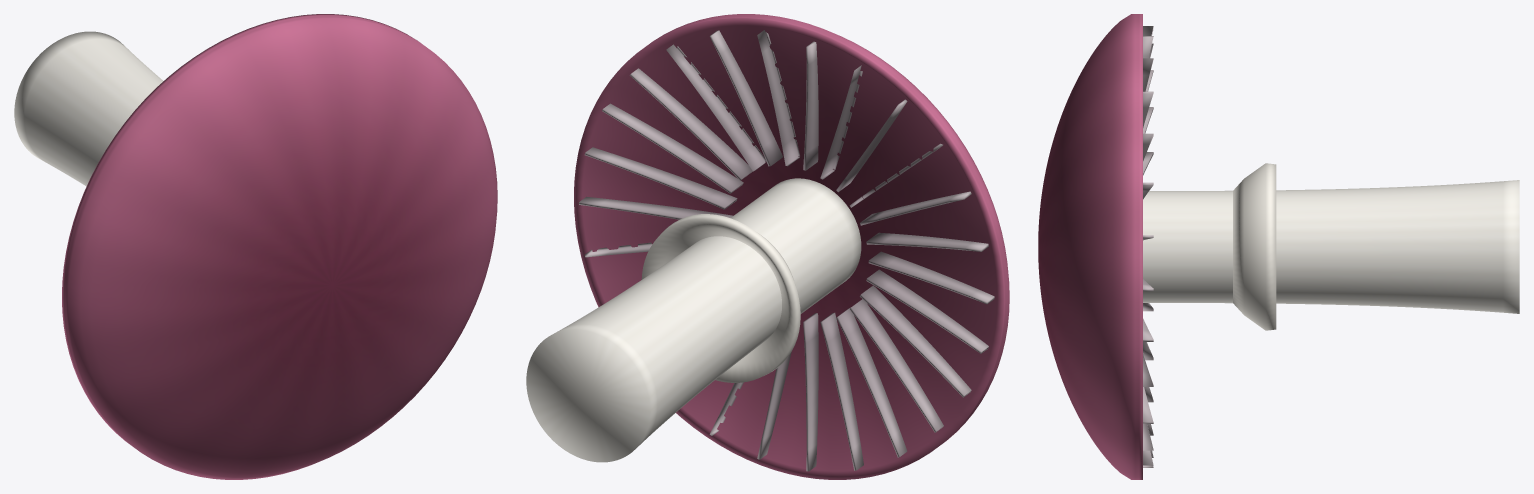
File: stropharia-rugosoannulata.glb
3 views of the same model, side by side, from view 1: azimuth 30°, elevation 25°; view 2: azimuth 150°, elevation 25°; view 3: azimuth 270°, elevation 25° (orthographic). The views are drawn at different scales.
Visible parts, largest first — view 1: pileus_cap, stipe_stem; view 2: pileus_cap, stipe_stem, lamellae_gills, annulus_ring; view 3: stipe_stem, pileus_cap, annulus_ring, lamellae_gills.
Part boxes in pixels (x1,y1,x2,y2): pileus_cap: (62, 14, 497, 479); stipe_stem: (14, 31, 163, 186); pileus_cap: (574, 14, 1009, 479); stipe_stem: (526, 178, 861, 462); lamellae_gills: (579, 30, 994, 471); annulus_ring: (641, 214, 800, 382); stipe_stem: (1143, 180, 1519, 313); pileus_cap: (1038, 14, 1142, 479); annulus_ring: (1233, 163, 1276, 330); lamellae_gills: (1143, 26, 1153, 467).
Bounding box in the file's own units: 2 × 2 × 2.07.
